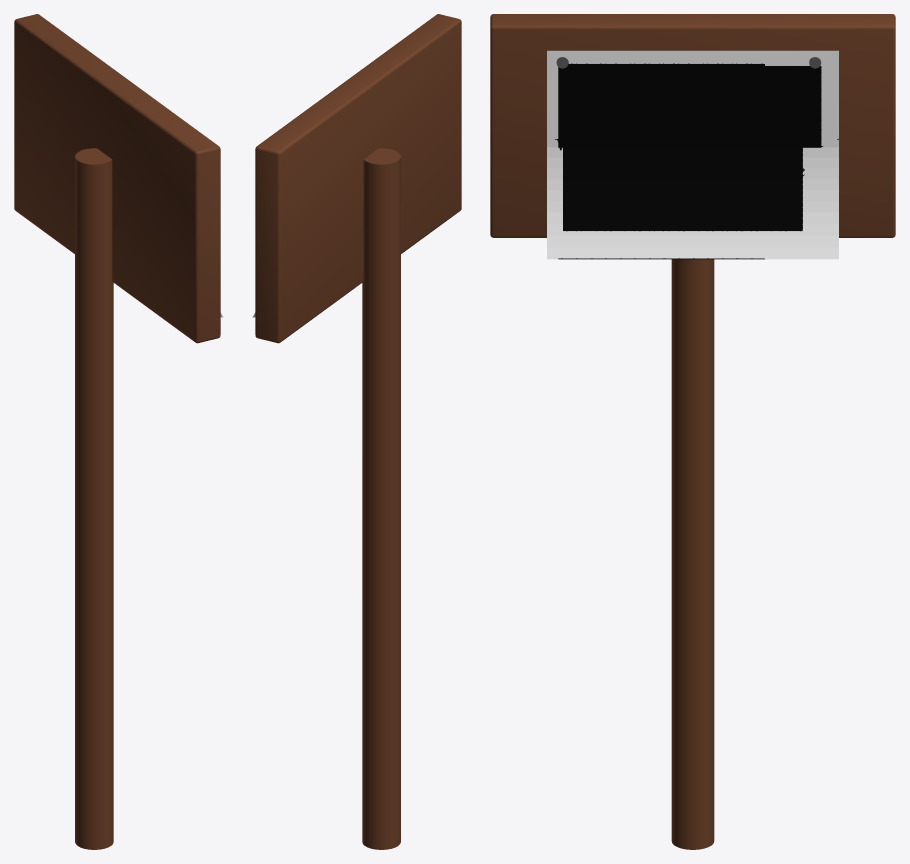
The model's file is sign3.fbx.
The picture shows the model from 3 angles, left to right: view 1: azimuth 30°, elevation 25°; view 2: azimuth 150°, elevation 25°; view 3: azimuth 270°, elevation 25°; orthographic projection. The views are drawn at different scales.
Visible parts, largest first — view 1: Cube, Cylinder; view 2: Cube, Cylinder; view 3: Plane_1_1, Cube, Cylinder.
Part boxes in pixels (<box>): Cube: <box>14,14,220,343</box>; Cylinder: <box>75,148,113,849</box>; Cube: <box>255,14,461,343</box>; Cylinder: <box>362,148,400,849</box>; Plane_1_1: <box>547,51,838,259</box>; Cube: <box>490,14,895,237</box>; Cylinder: <box>671,259,714,849</box>.
Size of the model in its own units: 30.69 by 276 by 122.
4 materials, 1 textured.
